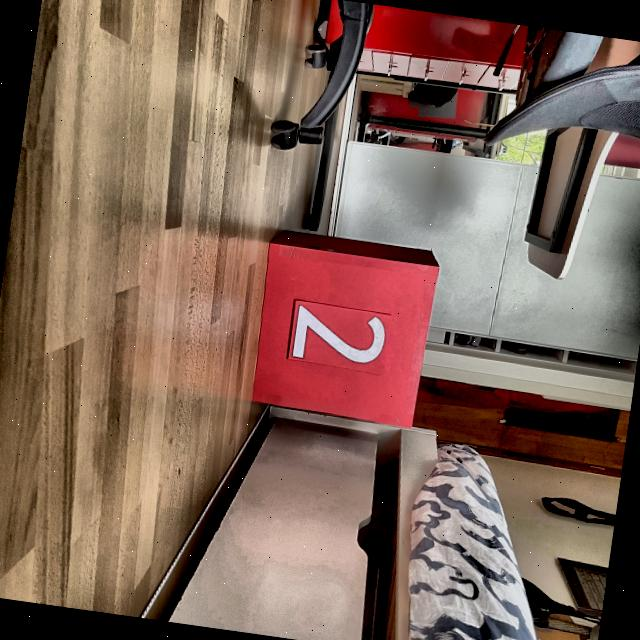red box: (254, 232, 436, 424)
two: (284, 294, 392, 374)
